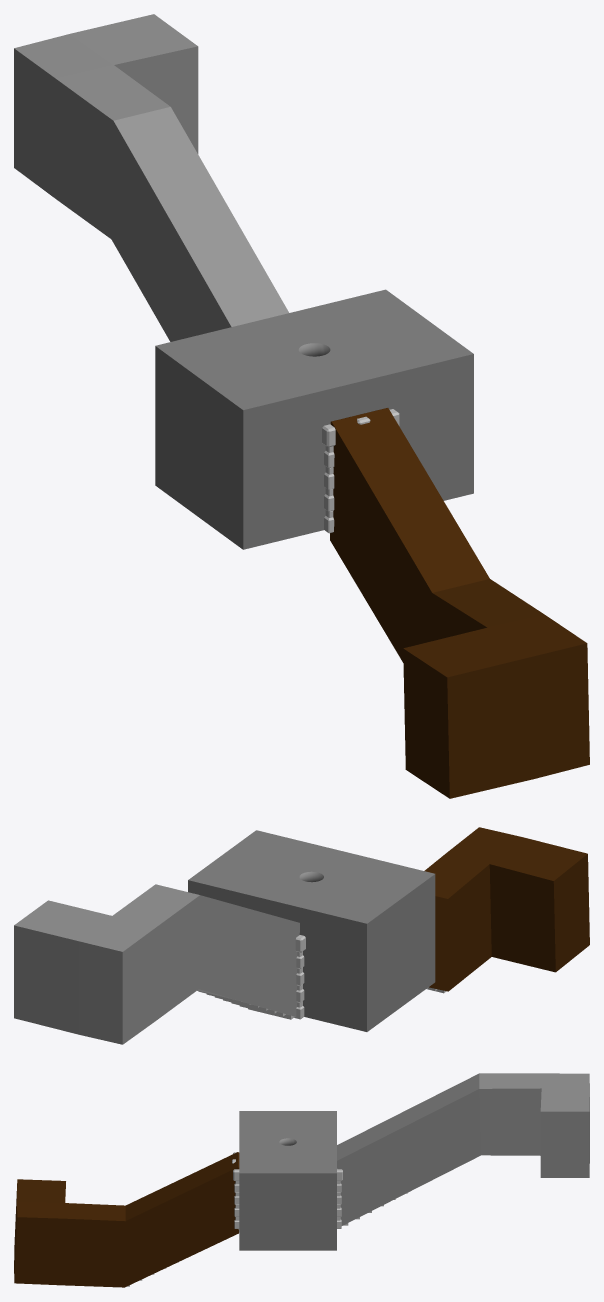
Rendered from Templio.fbx.
3 renders of one model, top to bottom at view 1: azimuth 30°, elevation 25°; view 2: azimuth 150°, elevation 25°; view 3: azimuth 270°, elevation 25°, orthographic. The views are drawn at different scales.
Parts seen in each view (by area): view 1: Templio.001, CorridoioScalini.001, CorridoioScalini; view 2: CorridoioScalini, Templio.001, CorridoioScalini.001, Ingresso.001, Scale; view 3: CorridoioScalini, CorridoioScalini.001, Templio.001.
Boxes of the visible parts, box(x1,y1,x2,y2) form: Templio.001: box(155, 289, 473, 549); CorridoioScalini.001: box(330, 408, 589, 798); CorridoioScalini: box(14, 14, 288, 341); CorridoioScalini: box(14, 884, 299, 1044); Templio.001: box(188, 830, 435, 1031); CorridoioScalini.001: box(424, 827, 589, 991); Ingresso.001: box(294, 951, 304, 1019); Scale: box(198, 991, 294, 1019); CorridoioScalini: box(337, 1073, 589, 1225); CorridoioScalini.001: box(14, 1152, 239, 1287); Templio.001: box(239, 1111, 336, 1250).
Bounding box in the file's own units: 623 × 926 × 2430.
